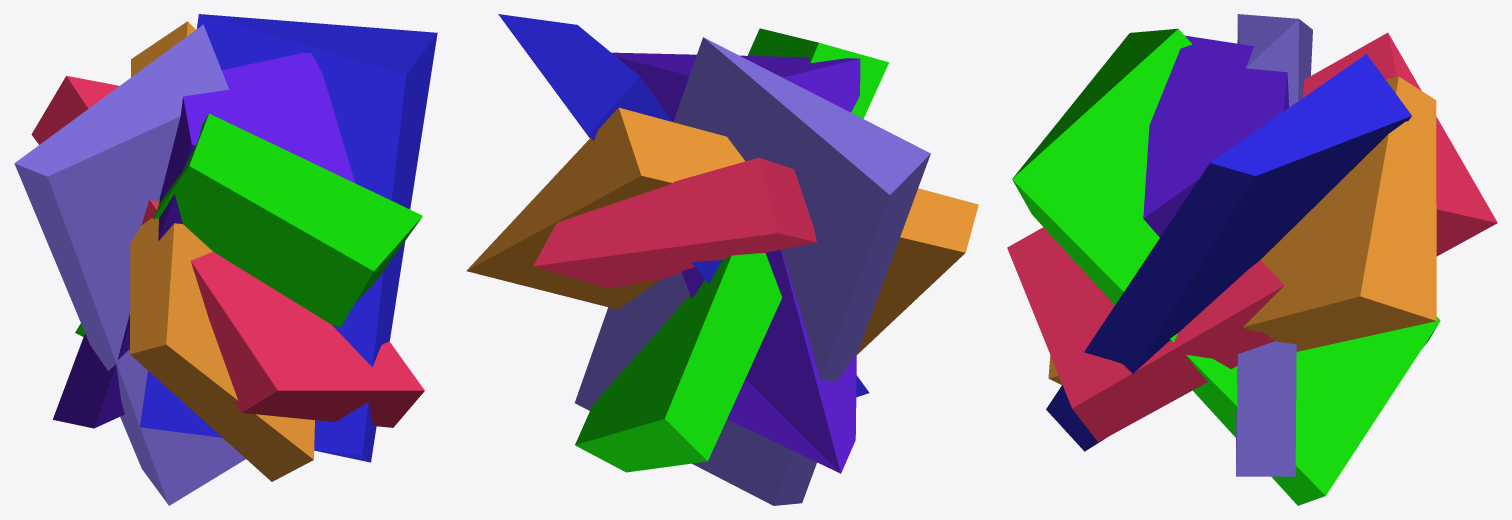
3 renders of one model, left to right at view 1: azimuth 30°, elevation 25°; view 2: azimuth 150°, elevation 25°; view 3: azimuth 270°, elevation 25°, orthographic. The views are drawn at different scales.
Parts seen in each view (by area): view 1: Cube.001, Cube.004, Cube.003, Cube.006, Cube.005, Cube.002; view 2: Cube.001, Cube.003, Cube.005, Cube.006, Cube.002, Cube.004; view 3: Cube.003, Cube.004, Cube.005, Cube.006, Cube.002, Cube.001.
Part boxes in pixels (left/top/right/bottom): Cube.001: left=14, top=24, right=245, bottom=505; Cube.004: left=140, top=14, right=437, bottom=462; Cube.003: left=75, top=113, right=422, bottom=336; Cube.006: left=31, top=75, right=424, bottom=427; Cube.005: left=130, top=21, right=314, bottom=481; Cube.002: left=53, top=52, right=354, bottom=428; Cube.001: left=574, top=37, right=930, bottom=505; Cube.003: left=575, top=28, right=888, bottom=472; Cube.005: left=466, top=107, right=978, bottom=354; Cube.006: left=533, top=157, right=816, bottom=288; Cube.002: left=611, top=52, right=860, bottom=473; Cube.004: left=498, top=14, right=869, bottom=397; Cube.003: left=1012, top=28, right=1440, bottom=505; Cube.004: left=1046, top=54, right=1411, bottom=451; Cube.005: left=1048, top=76, right=1436, bottom=384; Cube.006: left=1007, top=32, right=1497, bottom=441; Cube.002: left=1143, top=35, right=1289, bottom=237; Cube.001: left=1236, top=14, right=1312, bottom=476.
Size of the model in its own units: 32.34 by 34.45 by 32.79.
